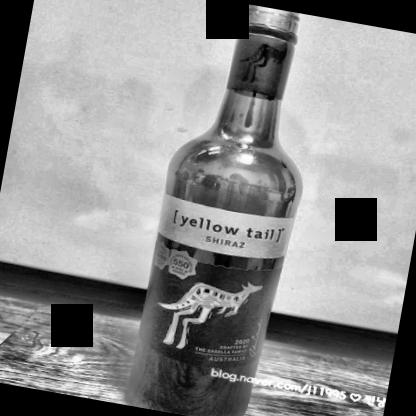yellowtail: (134, 190, 287, 378)
